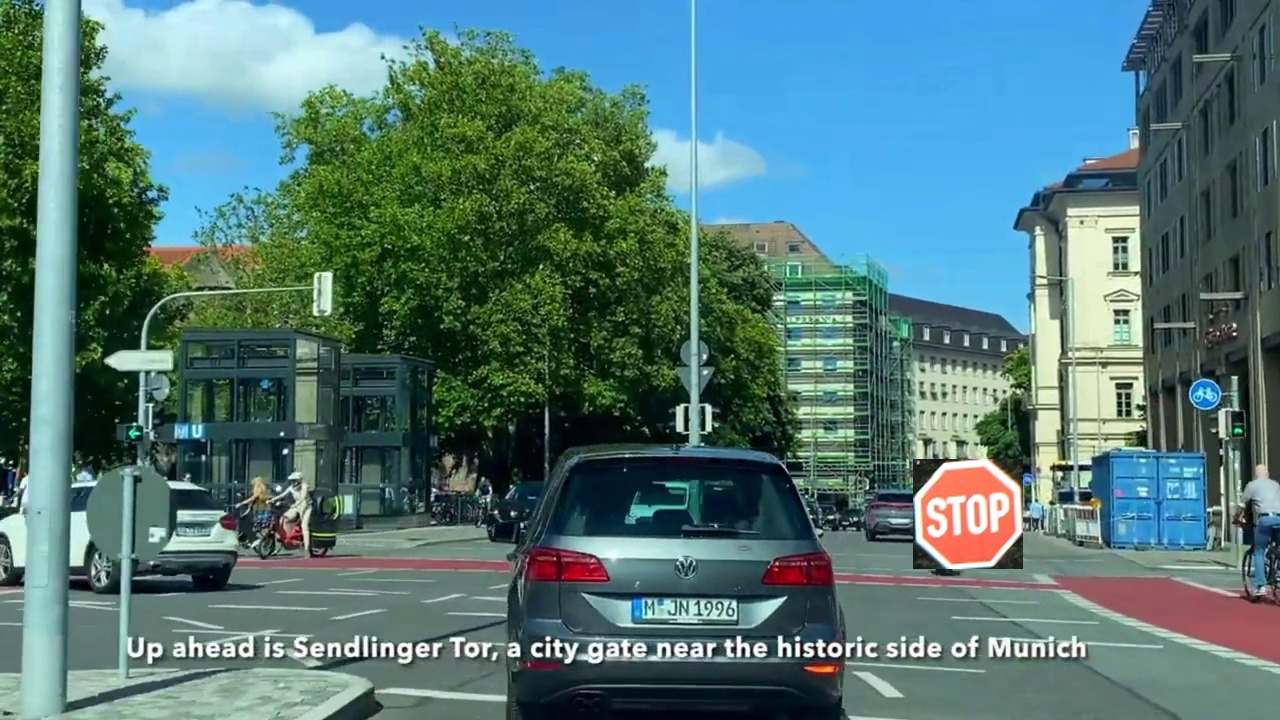Stop: (913, 459, 1023, 569)
